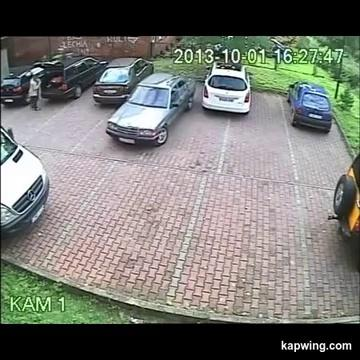car: (106, 73, 195, 145), (1, 126, 49, 237), (328, 153, 359, 270), (34, 55, 107, 99), (93, 57, 153, 104), (202, 62, 250, 113), (287, 81, 332, 132), (1, 65, 43, 105)
